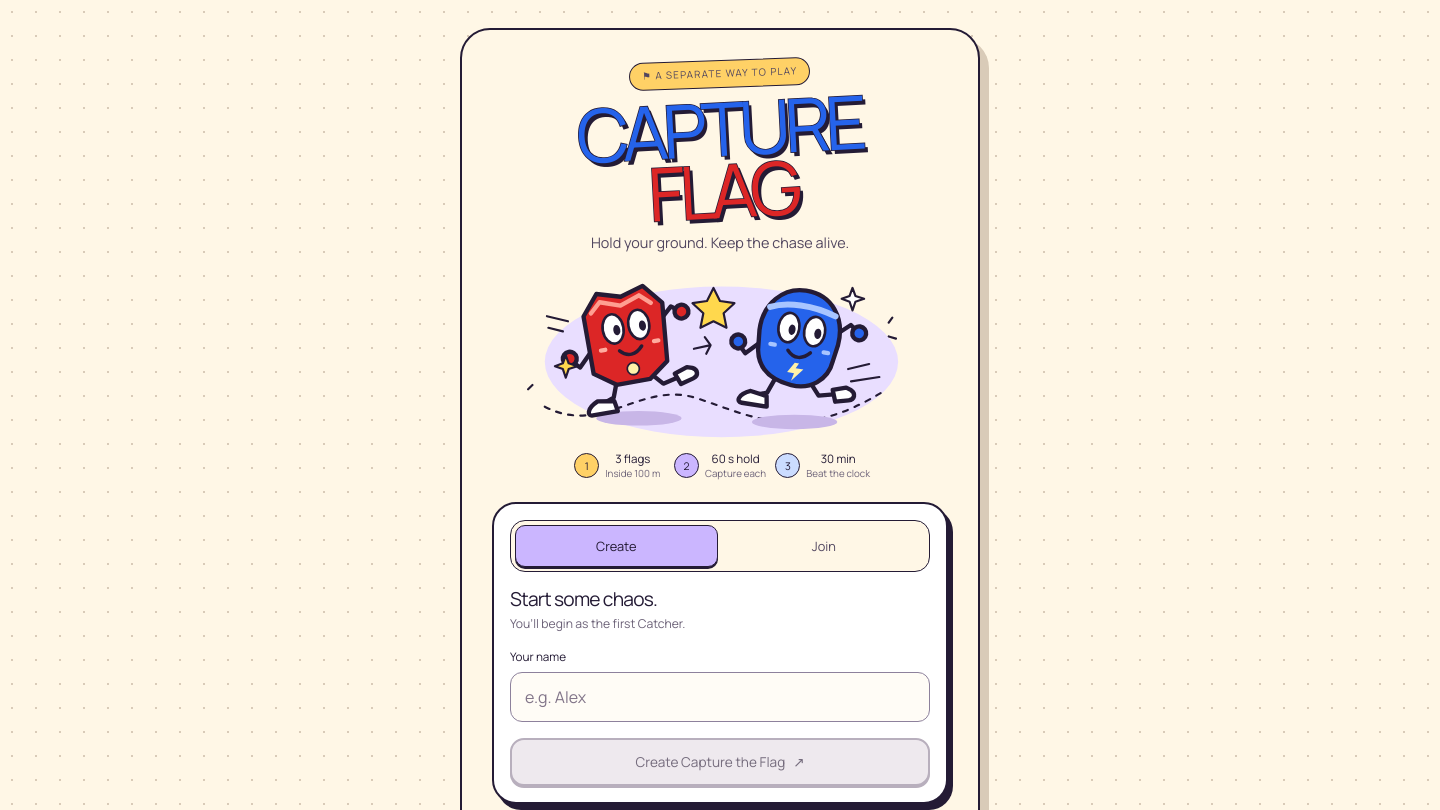
Test: uses only the CTF API when creating a room and leaves the current game endpoints alone
Type "Host" into the field labelled "Your name" at (720, 697), box [510,672,930,722]
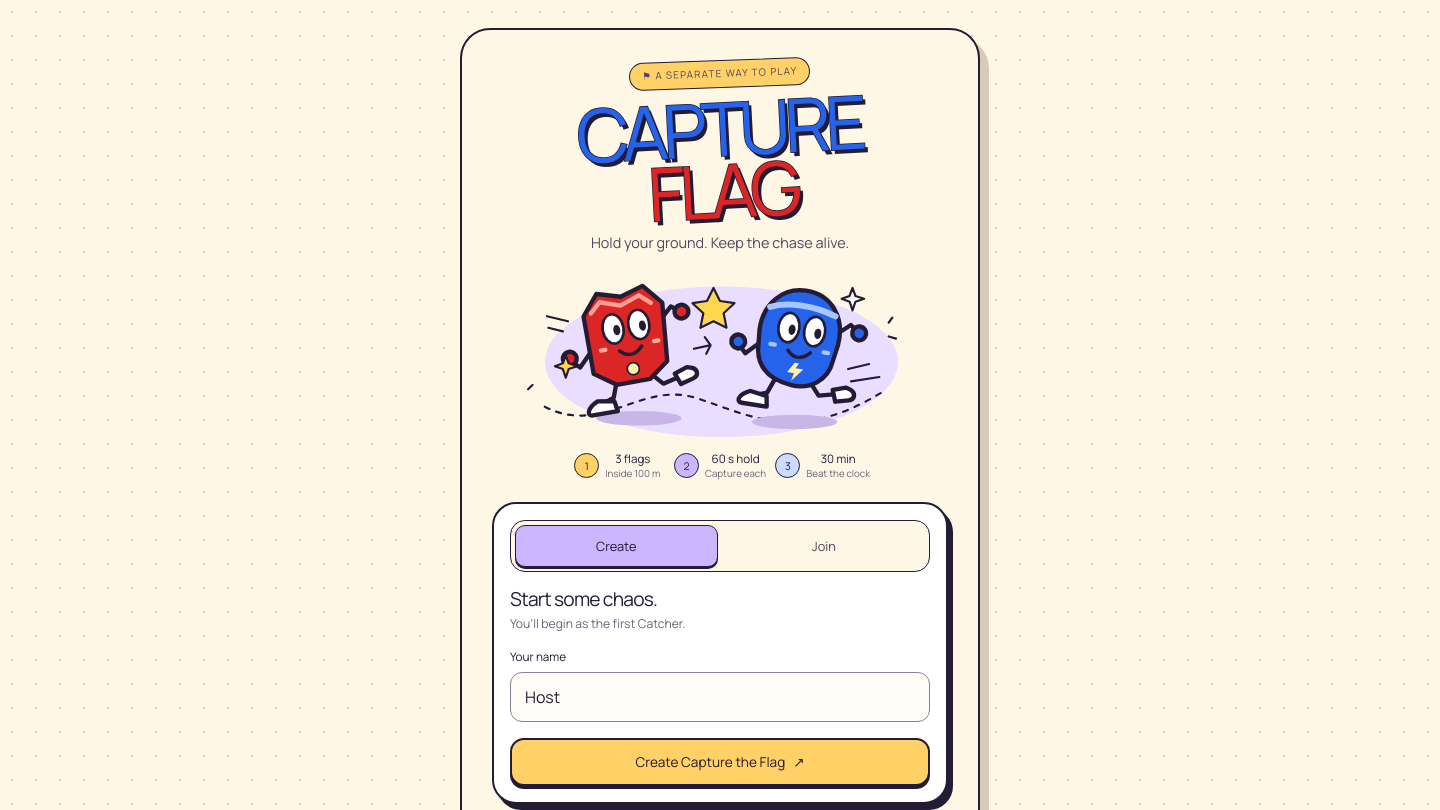
Click the button "Create Capture the Flag ↗" at (720, 762), box [510,738,930,786]
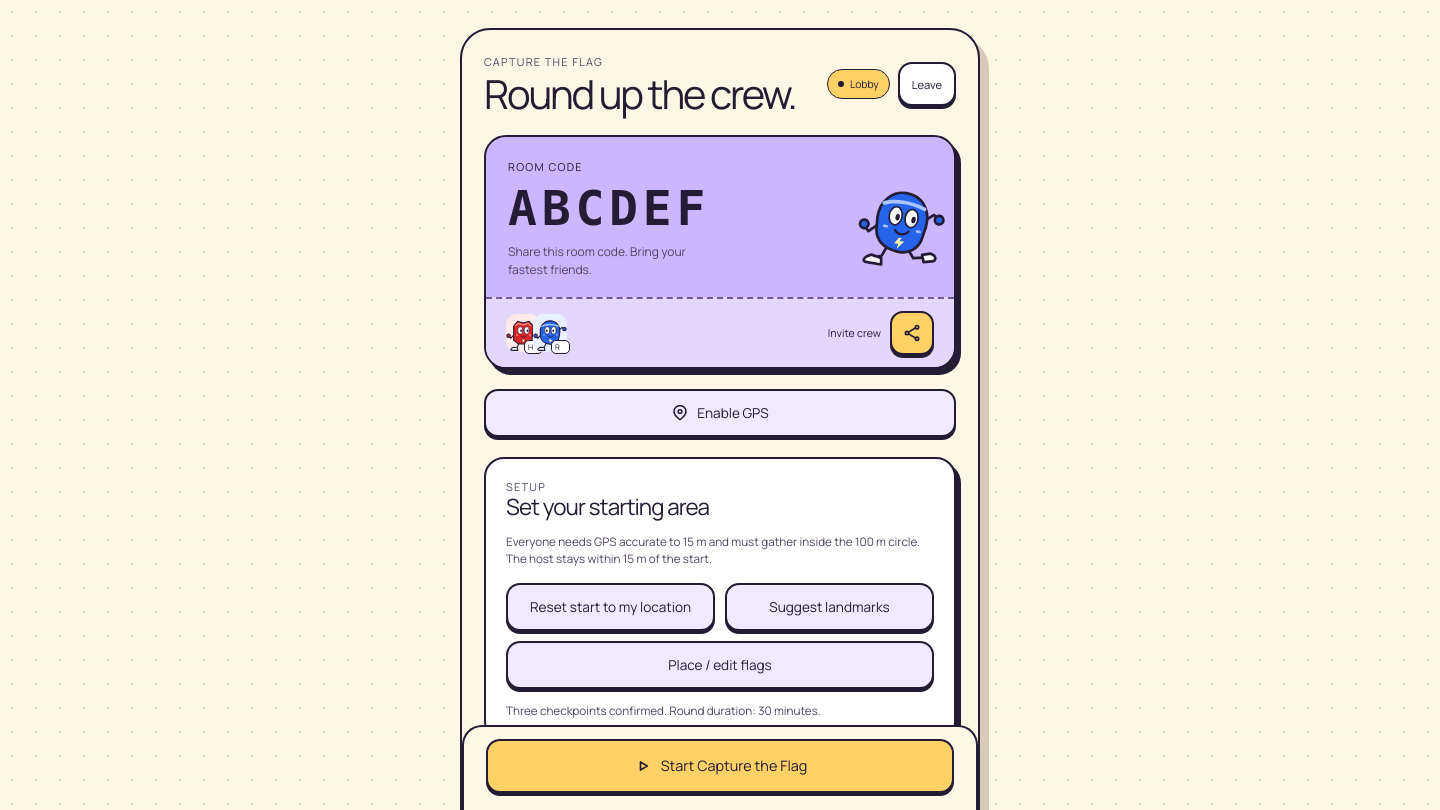
Result: the heading "Set your starting area" is shown at [506,491,709,522]
Result: the text "Three checkpoints confirmed. Round duration: 30 minutes." is shown at [506,703,821,719]
